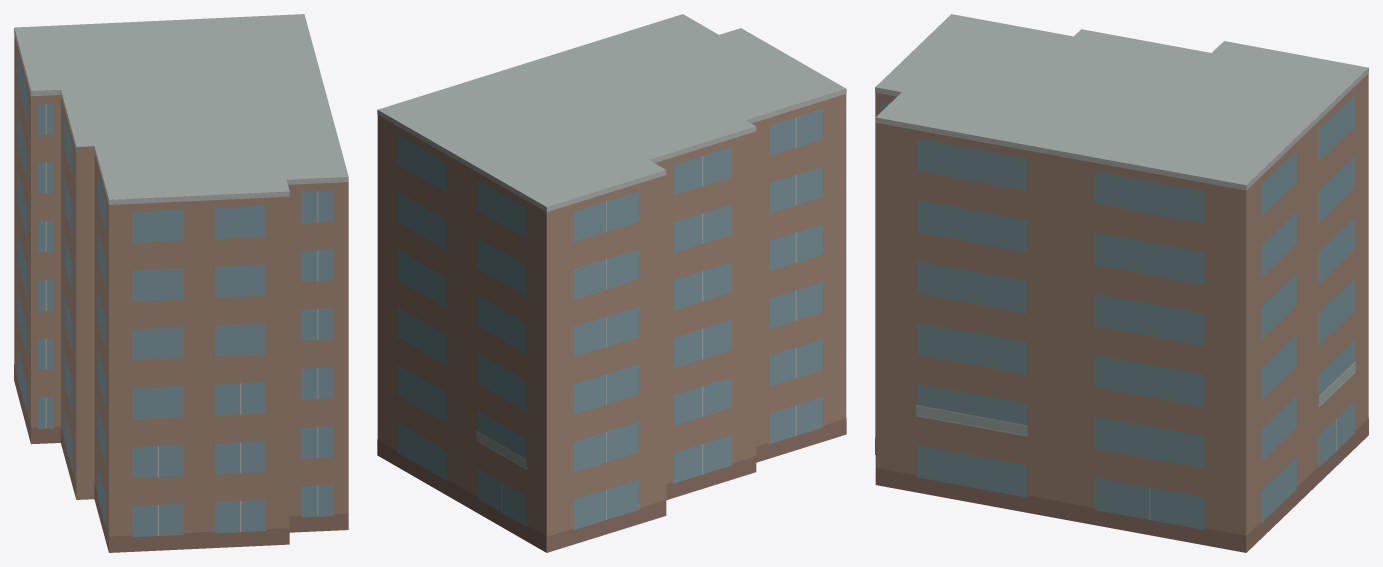
File: survey-upis-32983174.glb
The picture shows the model from 3 angles, left to right: view 1: azimuth 30°, elevation 25°; view 2: azimuth 150°, elevation 25°; view 3: azimuth 270°, elevation 25°; orthographic projection. The views are drawn at different scales.
Visible parts, largest first — view 1: survey-upis-32983174.tmp; view 2: survey-upis-32983174.tmp; view 3: survey-upis-32983174.tmp.
Part boxes in pixels (x1=…): survey-upis-32983174.tmp: x1=14, y1=14, x2=348, y2=552; survey-upis-32983174.tmp: x1=377, y1=14, x2=846, y2=552; survey-upis-32983174.tmp: x1=875, y1=14, x2=1368, y2=552.
Bounding box in the file's own units: 16.85 × 16.85 × 20.51.
